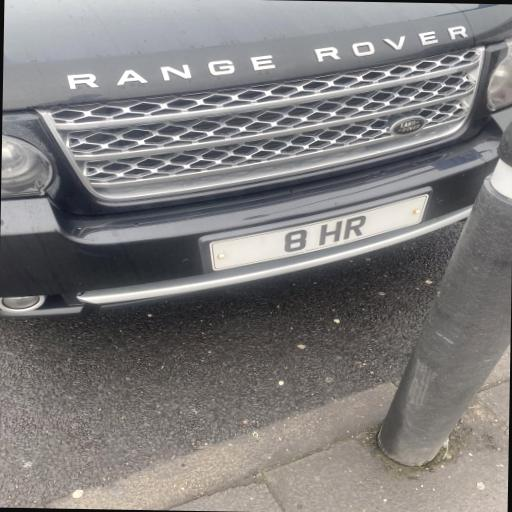numberplates: (210, 195, 428, 270)
